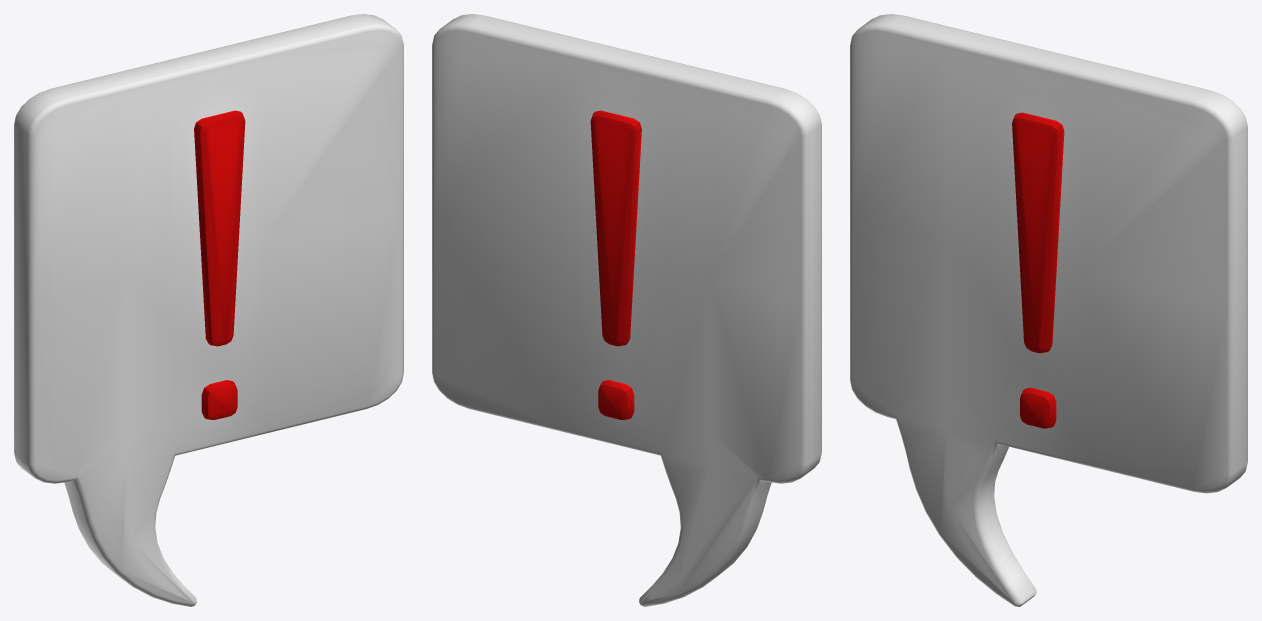
File: Exclamation Bubble.fbx
The picture shows the model from 3 angles, left to right: view 1: azimuth 30°, elevation 25°; view 2: azimuth 150°, elevation 25°; view 3: azimuth 330°, elevation 25°; orthographic projection. The views are drawn at different scales.
Parts seen in each view (by area): view 1: Exclamation Bubble; view 2: Exclamation Bubble; view 3: Exclamation Bubble.
Boxes of the visible parts, x1,y1,x2,y2 form: Exclamation Bubble: [14, 14, 403, 606]; Exclamation Bubble: [432, 14, 821, 606]; Exclamation Bubble: [850, 14, 1247, 606].
Size of the model in its own units: 284 by 389 by 38.58.
1 material, 1 textured.
